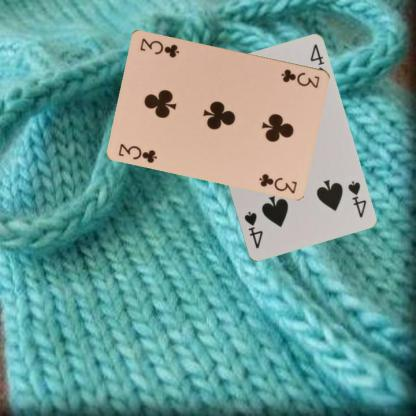3c: (116, 140, 159, 164), (278, 66, 322, 89)
4s: (344, 178, 367, 219)
